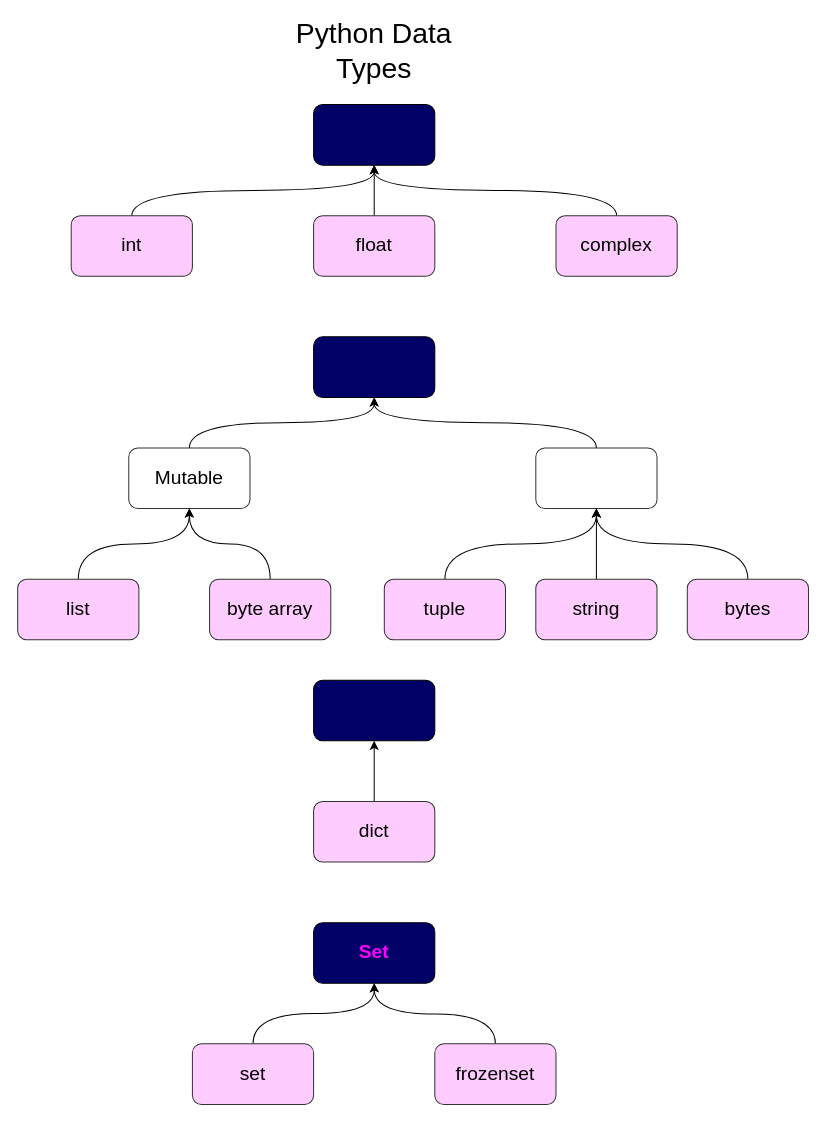
Some shapes in this 826 by 1122 pixel diagram are drawn without their labels. The box of each missing label's shape, as (x1, y1, x2, y2) in pixels:
Immutable: (535, 447, 657, 509)
Mapping: (313, 679, 435, 741)
Numeric: (313, 104, 435, 165)
Sequence: (313, 336, 435, 397)
